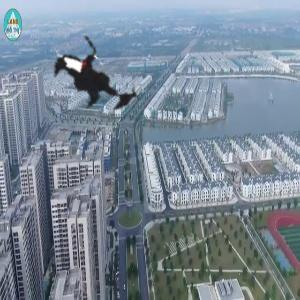drone: (30, 5, 172, 147)
